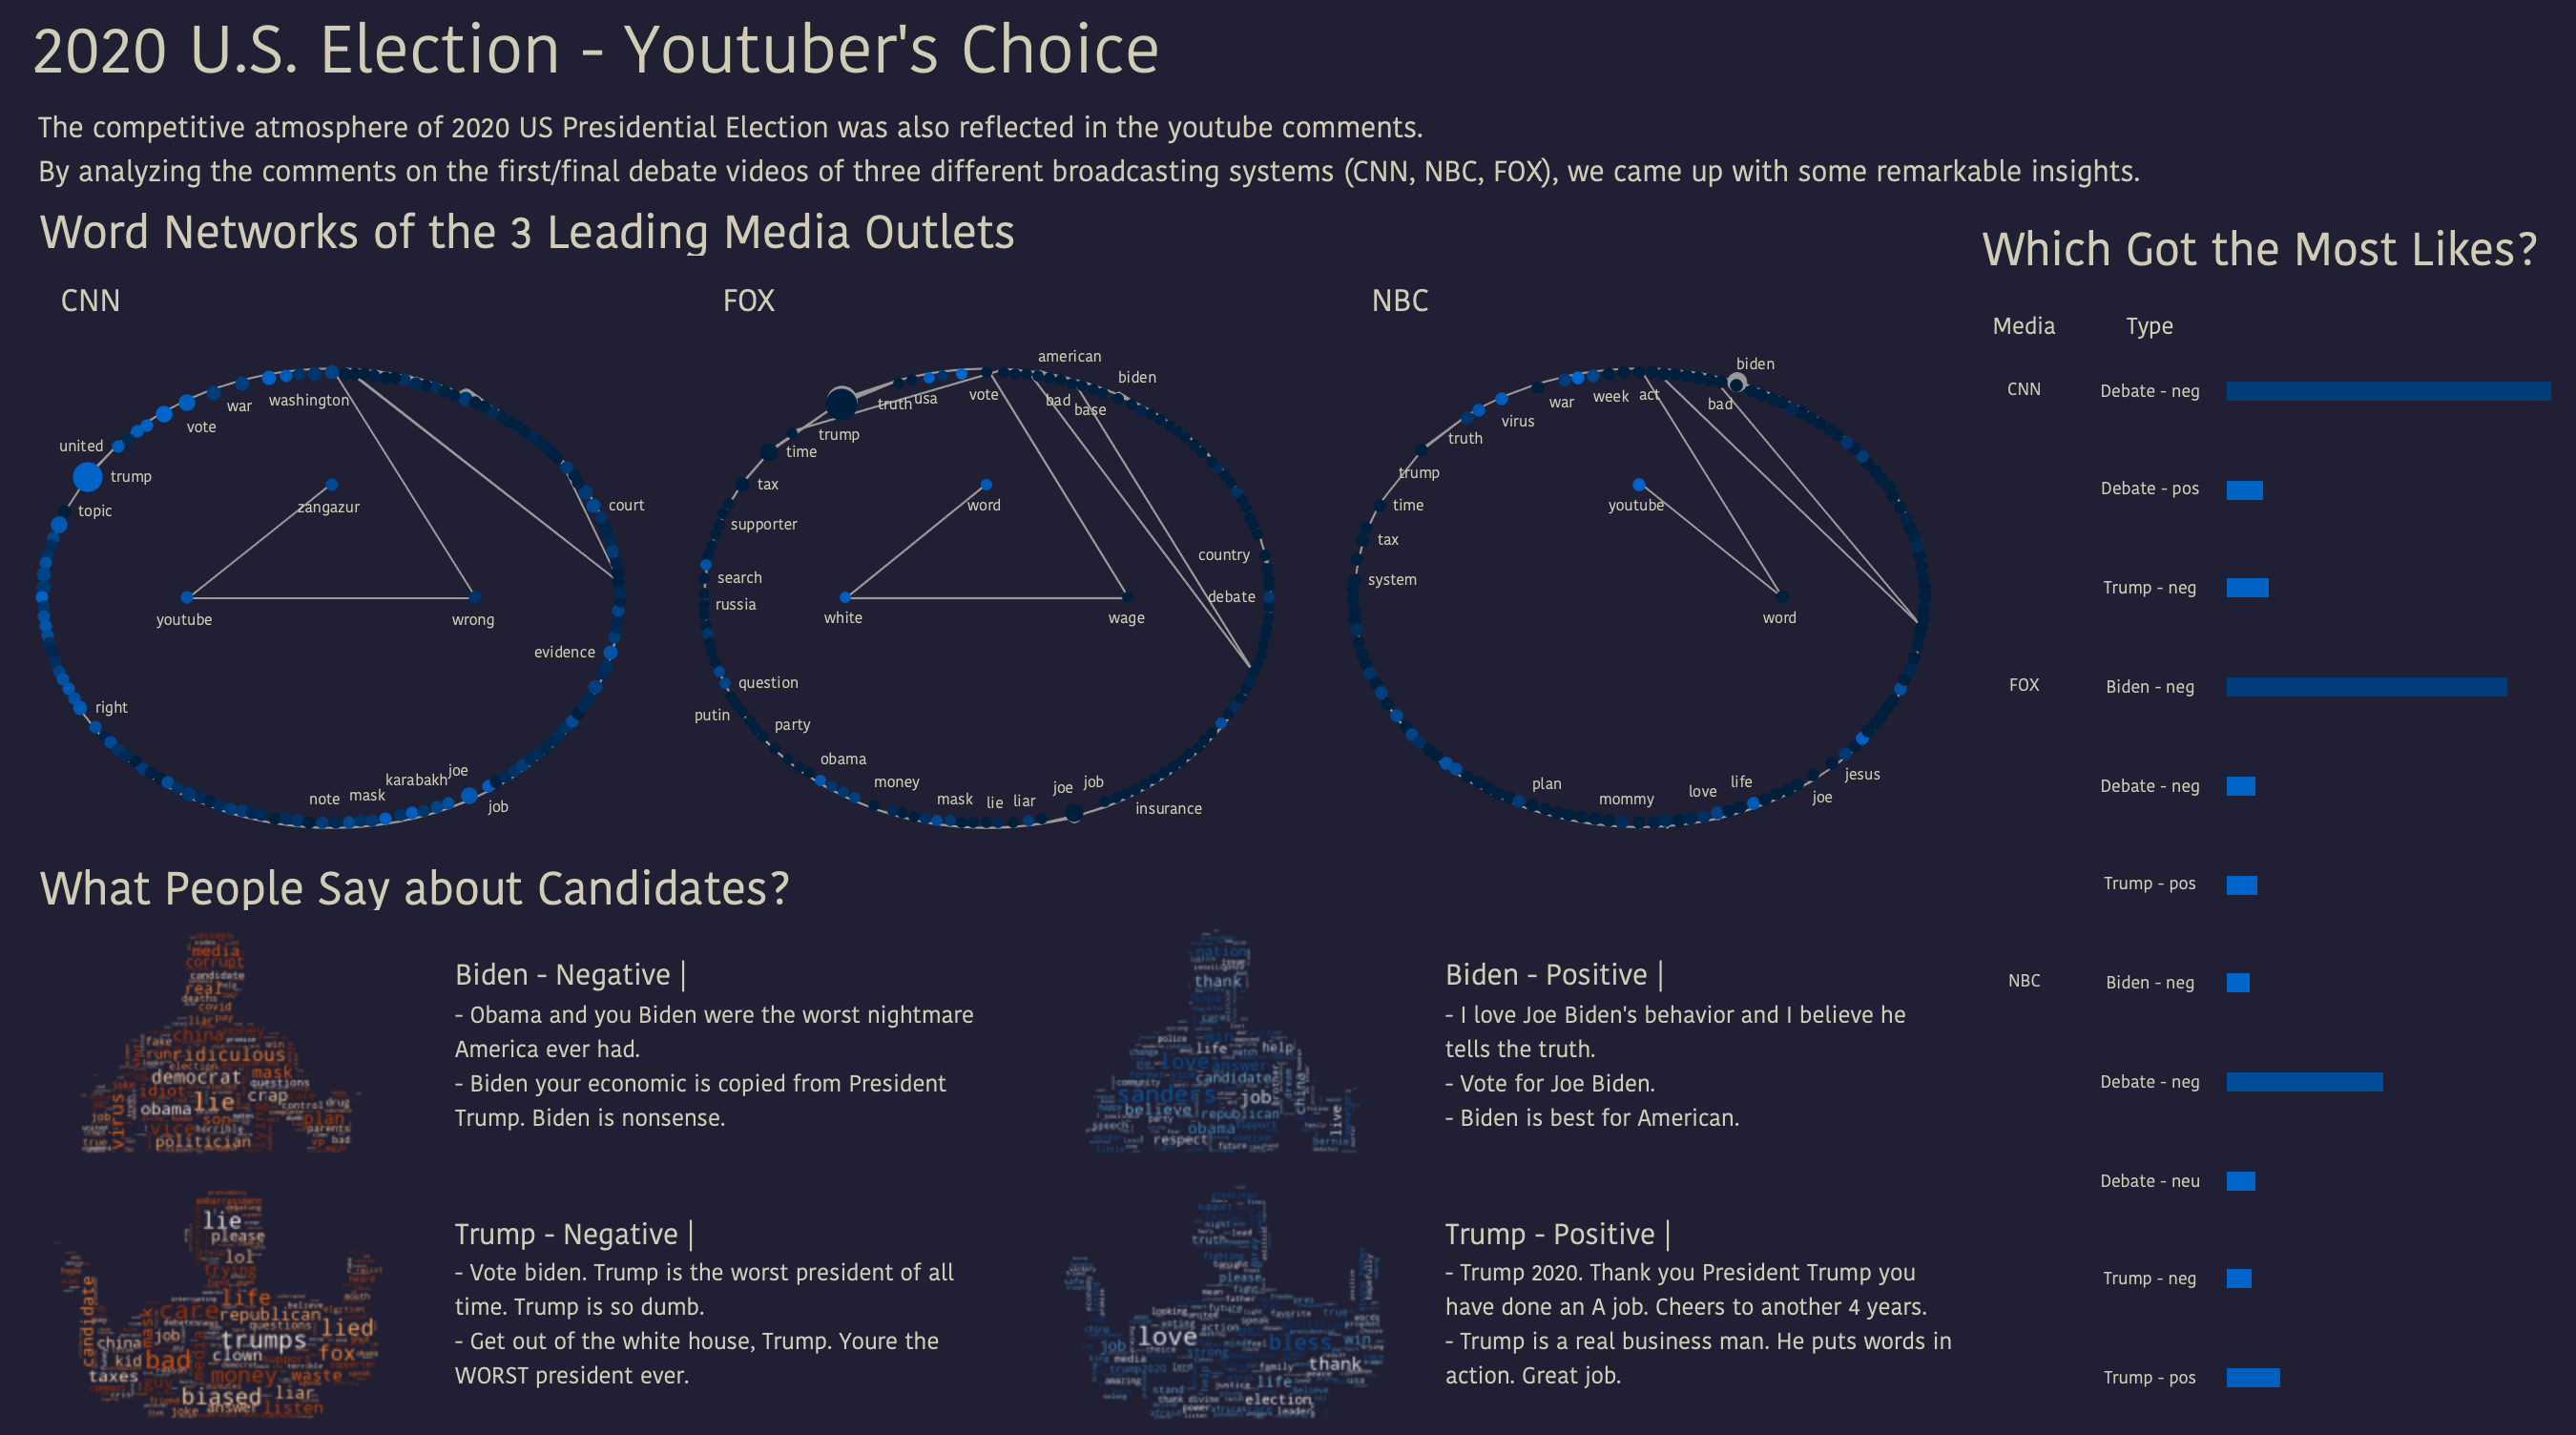

The dashboard page shown, as its layout file describes it:
{"tool":"tableau","page":{"name":"2020 U.S. Election - Youtuber's Choice","canvas":[1366,768],"ordinal":0},"visuals":[{"type":"worksheet","box":[0,0,1366,768]},{"type":"worksheet","param":"vert","box":[8,8,1350,752]},{"type":"worksheet","box":[8,8,1350,51]},{"type":"worksheet","param":"horz","box":[8,59,1350,701]},{"type":"worksheet","box":[8,59,1350,701]},{"type":"worksheet","box":[8,59,1350,55]},{"type":"worksheet","box":[8,114,1031,32]},{"type":"worksheet","title":"Which Got the Most Likes?","mark":"Automatic","rows":["media","type"],"cols":["likes"],"box":[1039,114,319,646]},{"type":"worksheet","title":"CNN Network","mark":"Automatic","rows":["y","y"],"cols":["x"],"box":[8,146,347,312.2]},{"type":"worksheet","title":"Fox Network","mark":"Automatic","rows":["y","y"],"cols":["x"],"box":[355,146,340,312.2]},{"type":"worksheet","title":"NBC Network","mark":"Automatic","rows":["y","y"],"cols":["x"],"box":[695,146,344,312.2]},{"type":"worksheet","box":[8,458.2,1031,30.8]},{"type":"worksheet","param":"Image/biden_negative_wc.png","box":[8,489,232,132.8]},{"type":"worksheet","box":[240,489,304,132.8]},{"type":"worksheet","param":"Image/biden_positive_wc.png","box":[544,489,215,132.8]},{"type":"worksheet","box":[759,489,280,132.8]},{"type":"worksheet","param":"Image/trump_negative_wc.png","box":[8,621.7,232,138.3]},{"type":"worksheet","box":[240,621.7,304,138.3]},{"type":"worksheet","param":"Image/trump_positive_wc.png","box":[544,621.7,215,138.3]},{"type":"worksheet","box":[759,621.7,280,138.3]}]}

Visuals, with their boxes in screenshot pixels (x1, y1, x2, y2), scaled from the page's 1366x768 canvas onto the 2576x1435 screenshot:
worksheet: (0,0,2575,1434)
worksheet: (15,15,2561,1420)
worksheet: (15,15,2561,111)
worksheet: (15,111,2561,1420)
worksheet: (15,111,2561,1420)
worksheet: (15,111,2561,213)
worksheet: (15,213,1960,273)
"Which Got the Most Likes?" worksheet: (1960,213,2561,1420)
"CNN Network" worksheet: (15,273,670,856)
"Fox Network" worksheet: (670,273,1311,856)
"NBC Network" worksheet: (1311,273,1960,856)
worksheet: (15,856,1960,914)
worksheet: (15,914,452,1162)
worksheet: (452,914,1026,1162)
worksheet: (1026,914,1431,1162)
worksheet: (1431,914,1960,1162)
worksheet: (15,1161,452,1420)
worksheet: (452,1161,1026,1420)
worksheet: (1026,1161,1431,1420)
worksheet: (1431,1161,1960,1420)
